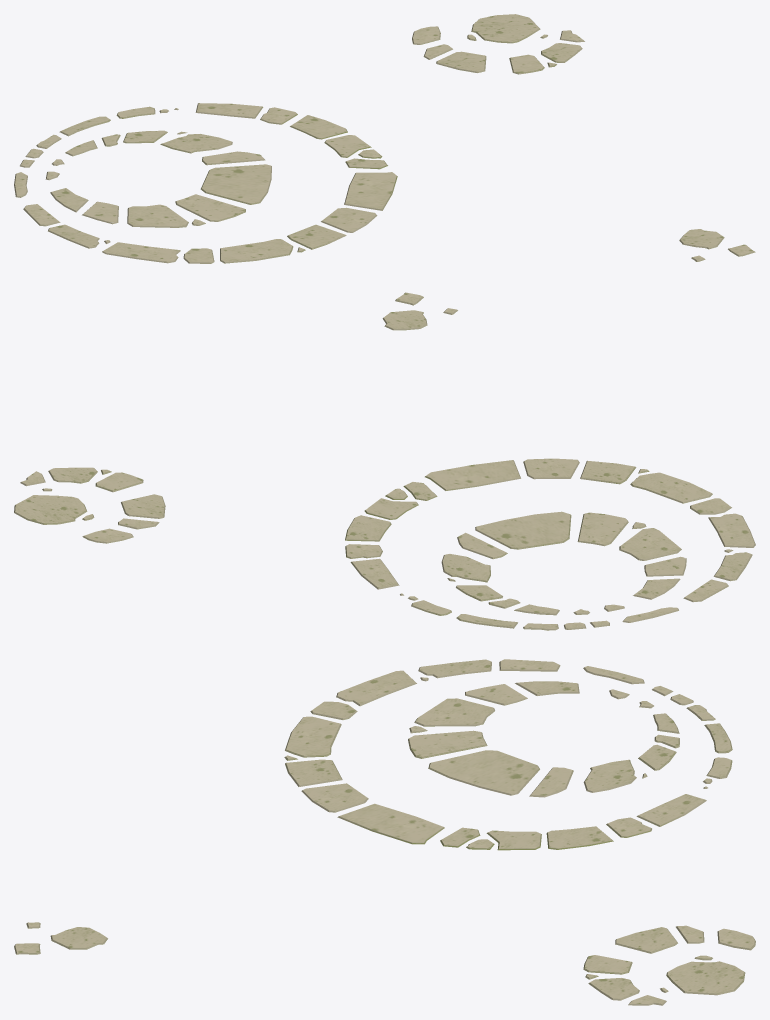
File: DE_StoneRuin_01.fbx
3 views of the same model, one above another, from view 1: azimuth 30°, elevation 25°; view 2: azimuth 150°, elevation 25°; view 3: azimuth 270°, elevation 25° (orthographic). The views are drawn at different scales.
Parts seen in each view (by area): view 1: DE_StoneRuin_01; view 2: DE_StoneRuin_01; view 3: DE_StoneRuin_01.
Boxes of the visible parts, bbox=[...] form: DE_StoneRuin_01: bbox=[14, 14, 755, 263]; DE_StoneRuin_01: bbox=[14, 292, 755, 630]; DE_StoneRuin_01: bbox=[14, 659, 755, 1005].
Bounding box in the file's own units: 6604 × 10 × 5985.
